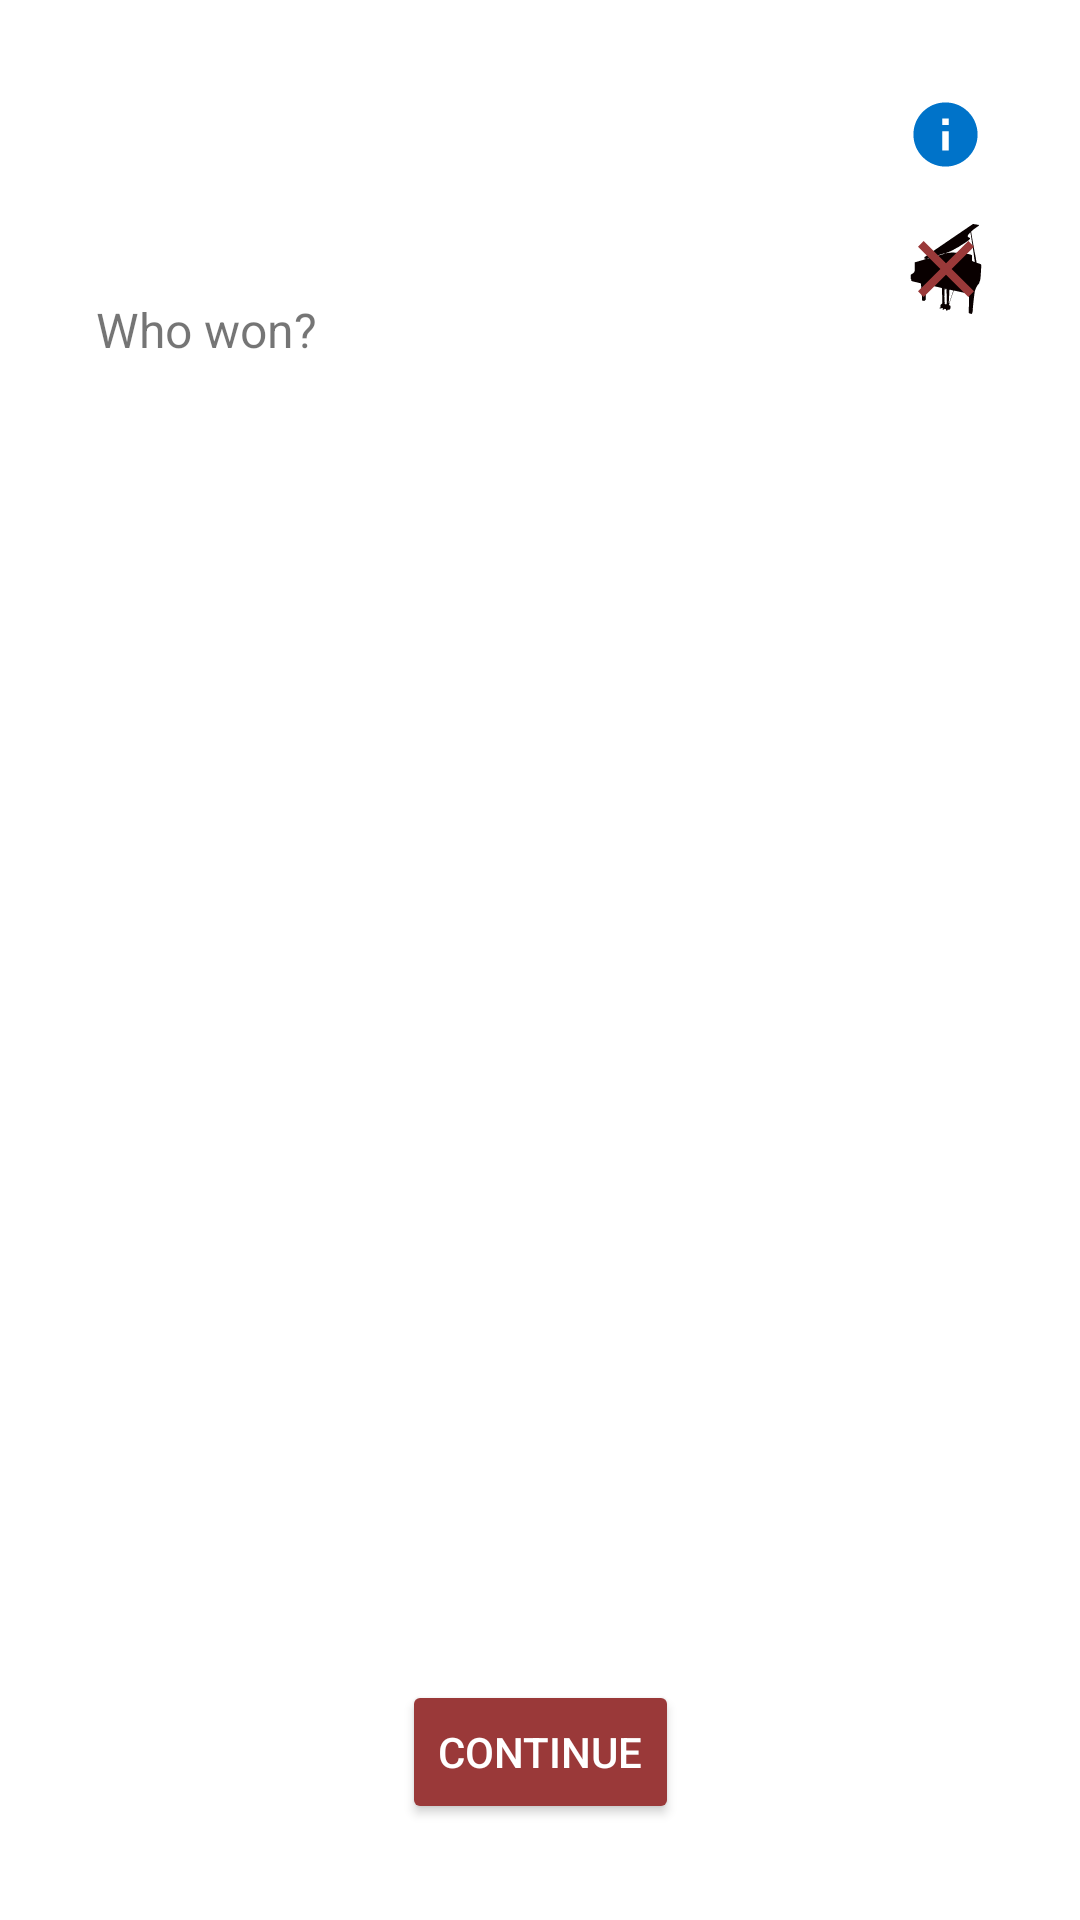

Screen size 1080*1920. Icon name, then its box in pixels as (x1, y1, x2, y2):
info: (913, 102, 978, 167)
